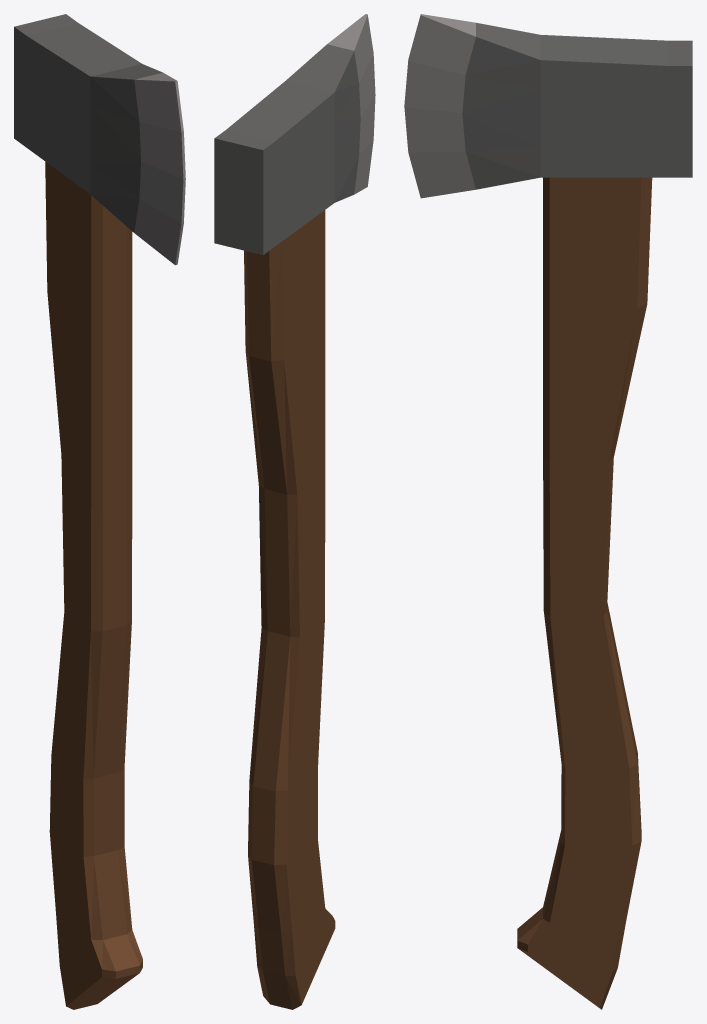
The model's file is o2_Weapons_Melee_Axe.fbx.
3 views of the same model, side by side, from view 1: azimuth 30°, elevation 25°; view 2: azimuth 150°, elevation 25°; view 3: azimuth 270°, elevation 25° (orthographic). The views are drawn at different scales.
Parts seen in each view (by area): view 1: o2_Weapons_Melee_Axe; view 2: o2_Weapons_Melee_Axe; view 3: o2_Weapons_Melee_Axe.
Boxes of the visible parts, left/top/right/bottom form: o2_Weapons_Melee_Axe: left=14, top=14, right=185, bottom=1009; o2_Weapons_Melee_Axe: left=214, top=14, right=375, bottom=1009; o2_Weapons_Melee_Axe: left=404, top=14, right=692, bottom=1009.
Bounding box in the file's own units: 5.03 × 91.84 × 24.24.
